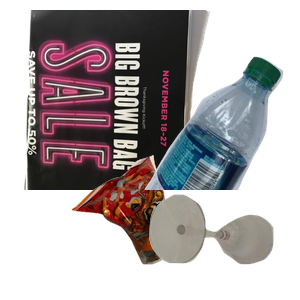glass: (147, 192, 300, 300)
paper: (22, 10, 225, 190)
plastic: (142, 54, 300, 234)
trash: (69, 153, 239, 300)
